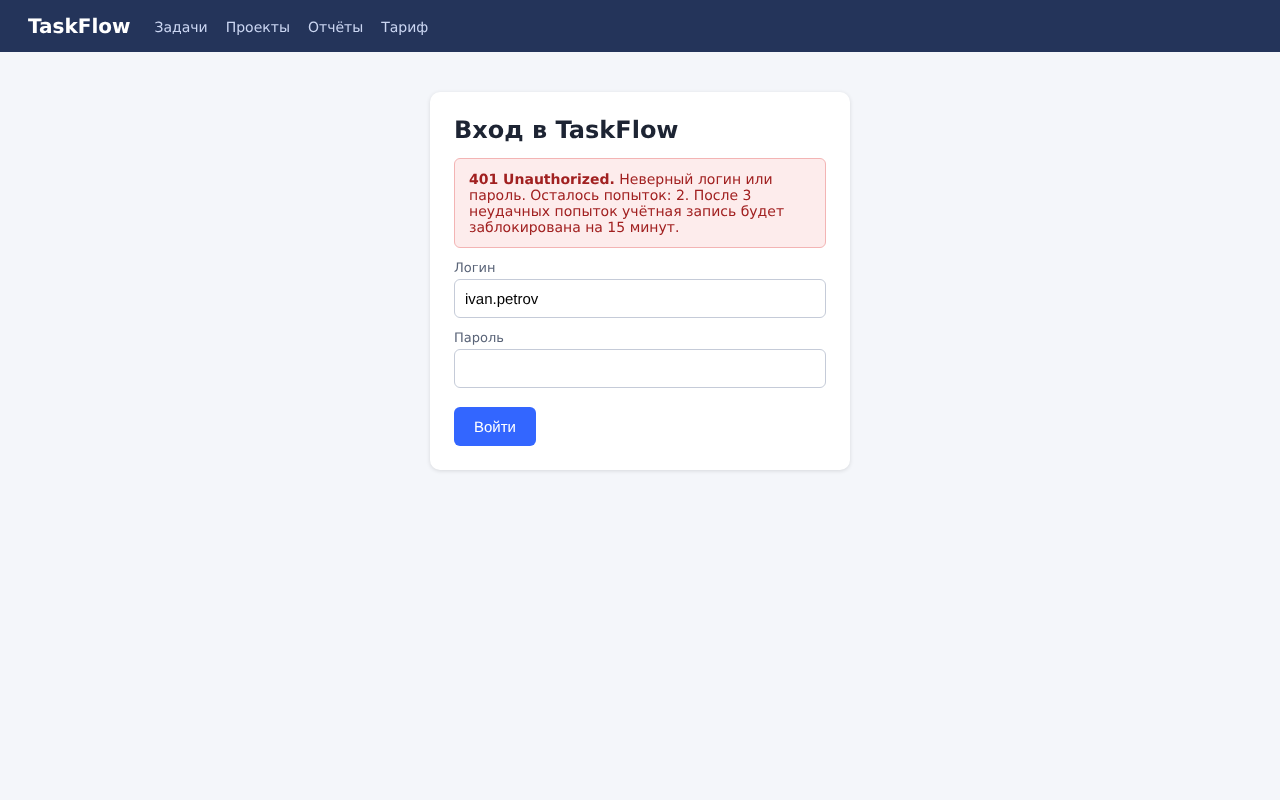ERROR_TEXT: (454, 158, 826, 248)
PII: (466, 293, 538, 307)
STATUS_INDICATOR: (469, 173, 614, 185)
UI_ELEMENT: (454, 279, 826, 318), (454, 349, 826, 388), (454, 407, 536, 446)
